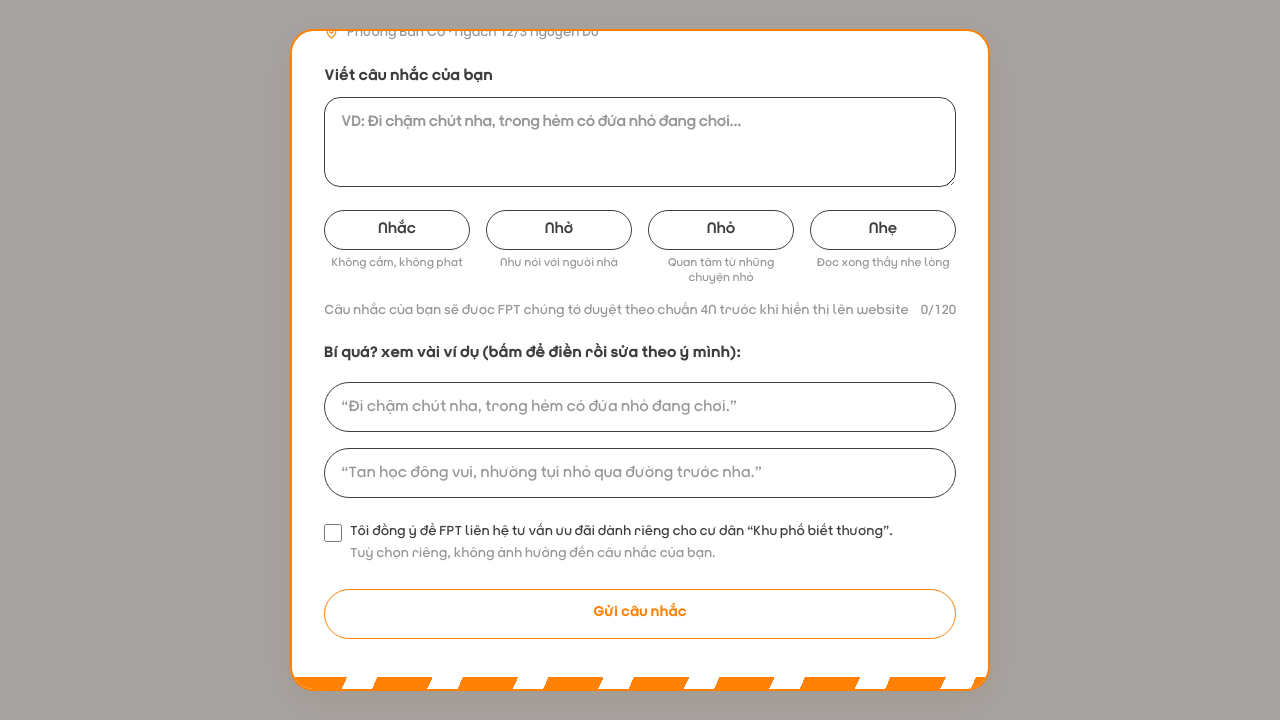
Test case: SuggestModal — luật nghiệp vụ › câu rỗng thì chặn gửi
(page scrolled)
Step 1. Click the button "Gửi câu nhắc" → (640, 614), box top-left (324, 589), bottom-right (956, 639)
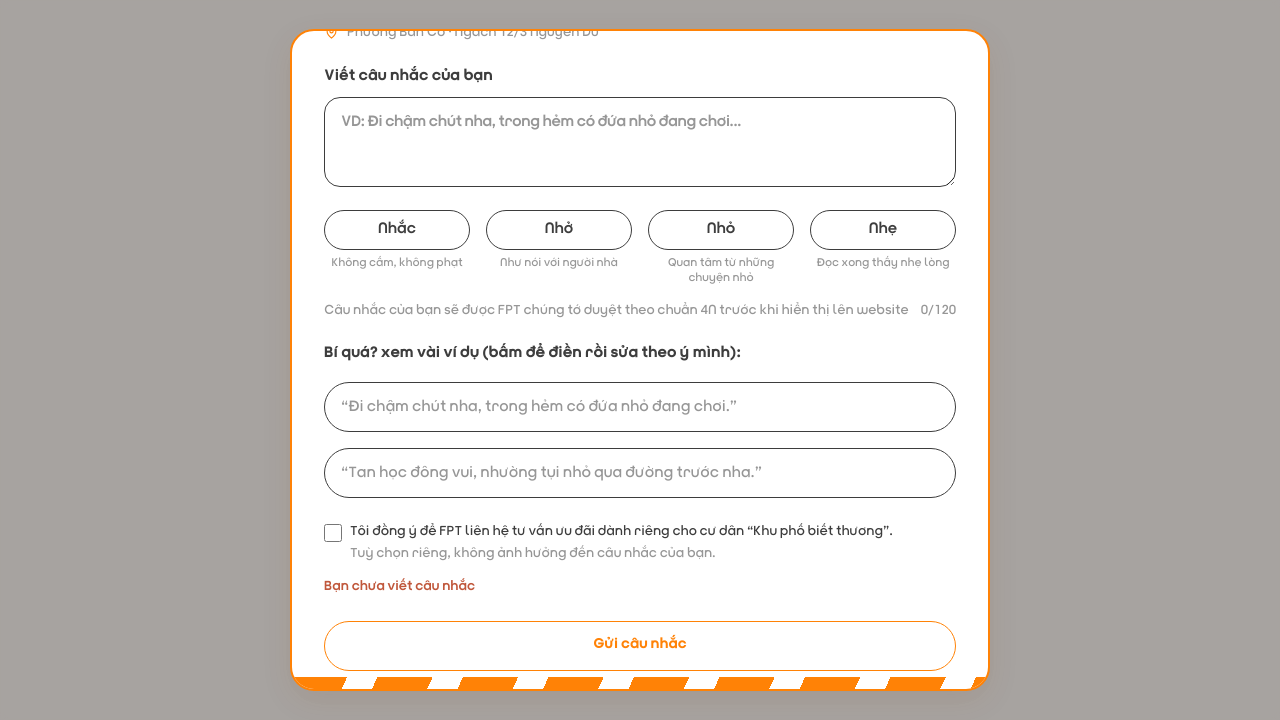
Now the text "Bạn chưa viết câu nhắc" is shown, box top-left (324, 579), bottom-right (475, 594)
